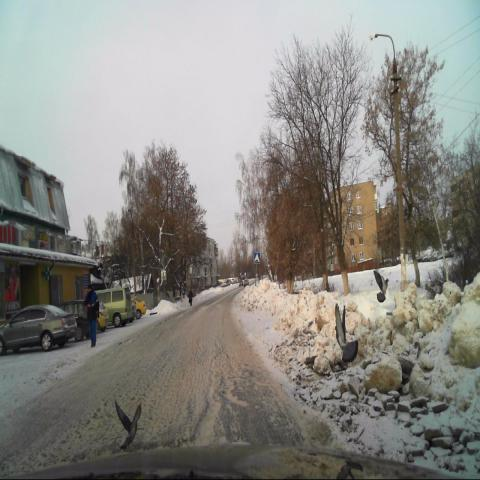5_20: (253, 252, 260, 263)
